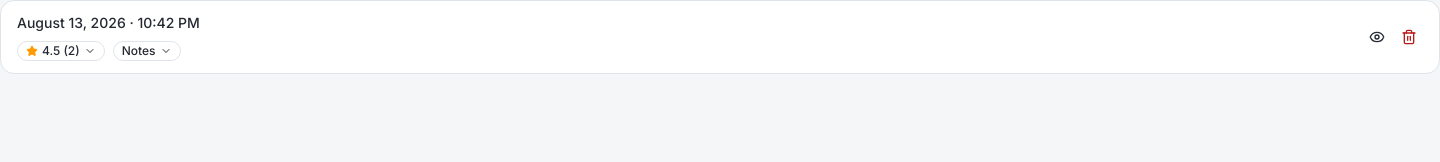
Scenario: DishCompletedSessionCard › summarizes ratings in the collapsed control and expands to the per-Taster breakdown
The width and height of the screenshot is (1440, 162).
Check: the text "Mom" is not shown
What coordinates should you click on to do the following:
click the button "4.5 (2)"
I would click on:
 (61, 51)
Its box is left=17, top=41, right=105, bottom=61.
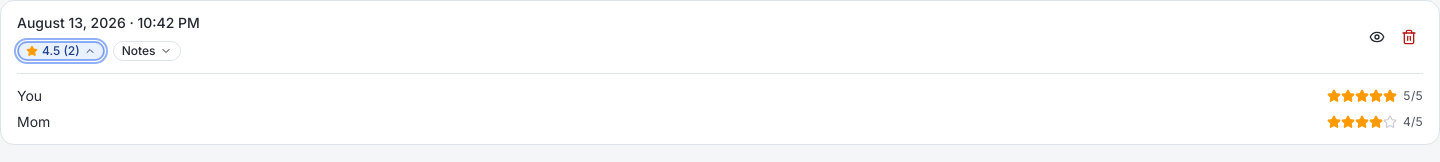
Check: the text "You" is shown, box left=17, top=86, right=42, bottom=106
Check: the text "Mom" is shown, box left=17, top=112, right=50, bottom=132
Check: the text "5/5" is shown, box left=1403, top=88, right=1423, bottom=104
